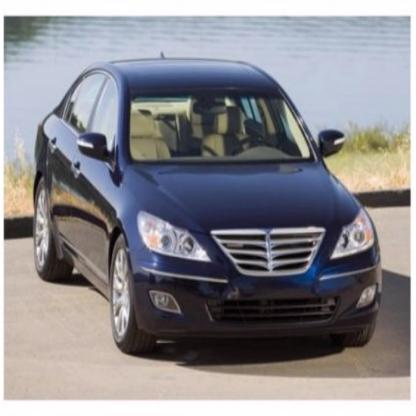Vehicle: (33, 52, 383, 361)
